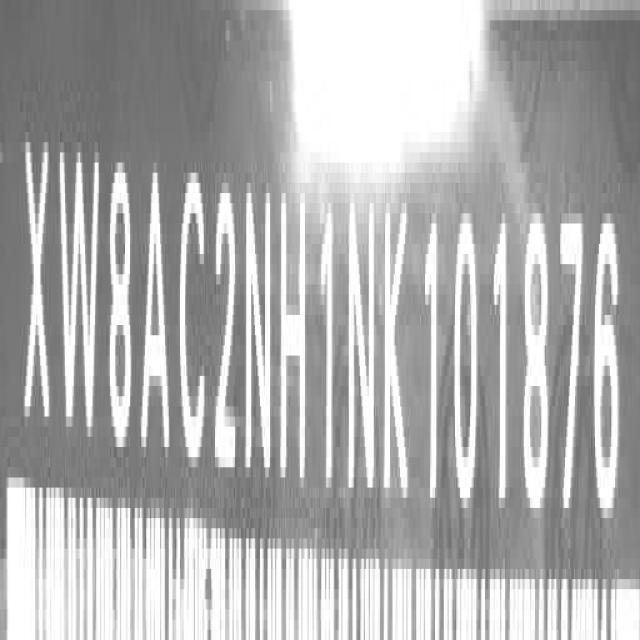0: (454, 202, 481, 518)
1: (317, 188, 337, 505), (423, 191, 442, 517), (489, 201, 508, 517)
2: (213, 171, 240, 487)
6: (595, 206, 623, 528)
7: (556, 202, 586, 528)
8: (524, 205, 550, 519), (110, 149, 134, 458)
A: (143, 152, 172, 465)
C: (180, 162, 208, 475)
H: (280, 179, 308, 497)
K: (386, 185, 414, 512)
N: (350, 185, 380, 509), (245, 171, 273, 492)
W: (58, 135, 101, 451)
X: (21, 125, 51, 441)
